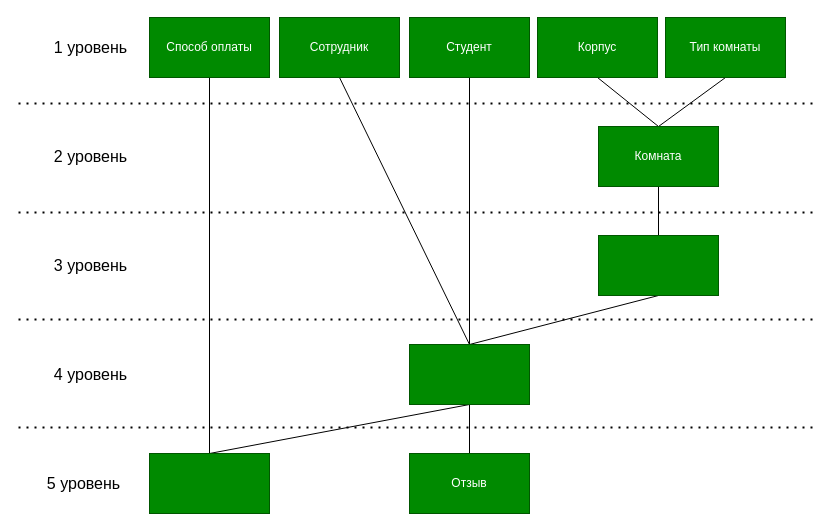
This 833x531 diagram has some shape labels left out. The shapes that lost their labels are listed below. From the top down, each one's centre as x and y in pixels, then its label:
(658,265): Место
(469,374): Поселение
(209,483): Платеж
